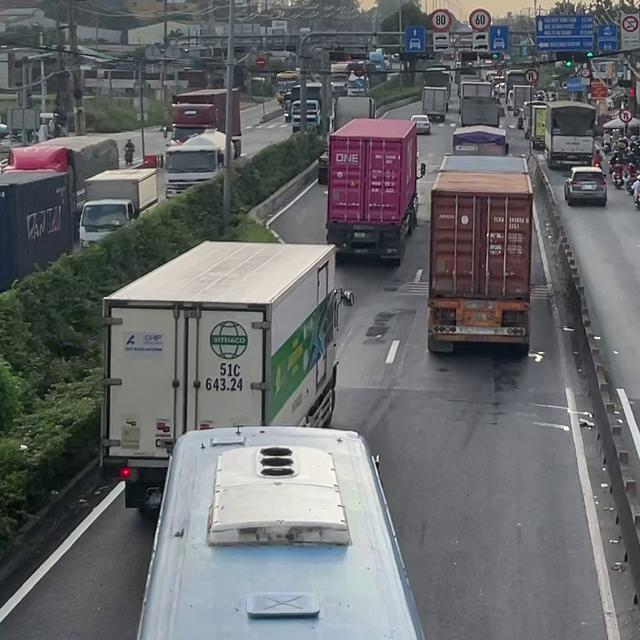bus: (136, 426, 426, 640)
car: (563, 165, 607, 206), (409, 114, 430, 134)
motorcycle: (610, 171, 625, 188), (633, 194, 640, 212)
truck: (98, 239, 354, 515), (426, 154, 533, 354), (324, 117, 425, 265), (0, 167, 73, 292), (8, 135, 118, 204), (76, 166, 159, 249), (163, 128, 238, 200), (317, 97, 375, 186), (170, 87, 242, 158), (542, 100, 596, 169), (452, 125, 508, 156), (461, 97, 501, 129), (421, 87, 451, 121), (457, 79, 495, 100), (532, 106, 548, 149)
